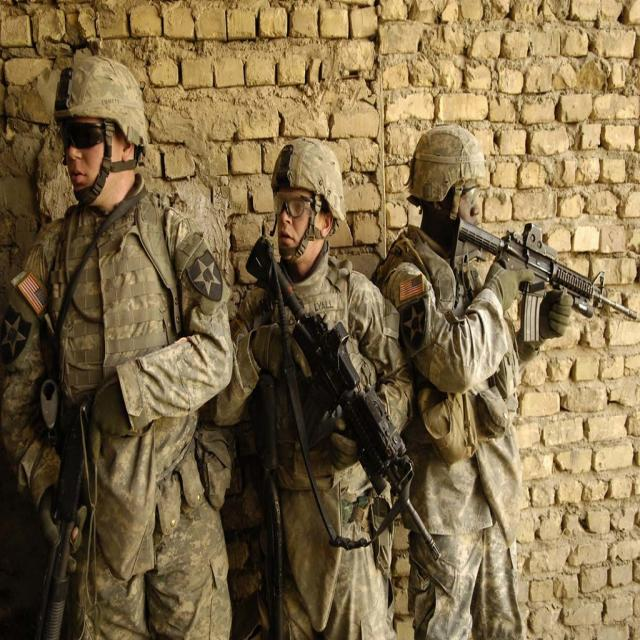weapon: (240, 227, 446, 557), (428, 202, 629, 332)
